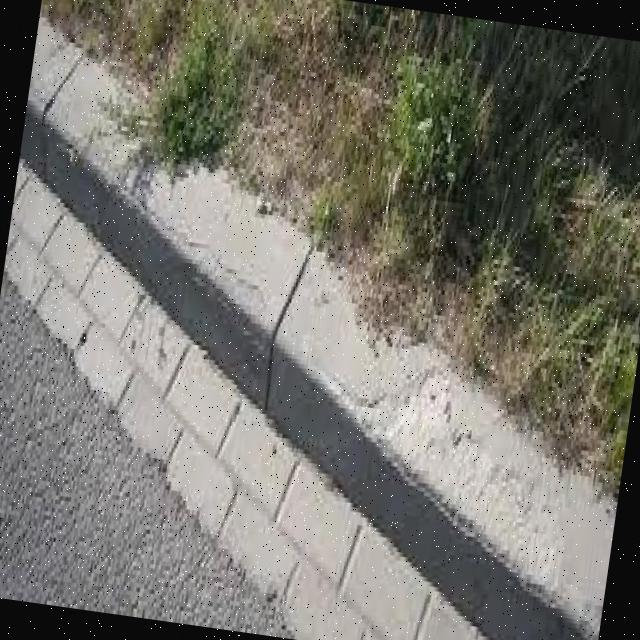curb: (297, 275, 506, 564), (134, 161, 326, 426), (8, 32, 173, 284), (439, 473, 619, 640)
